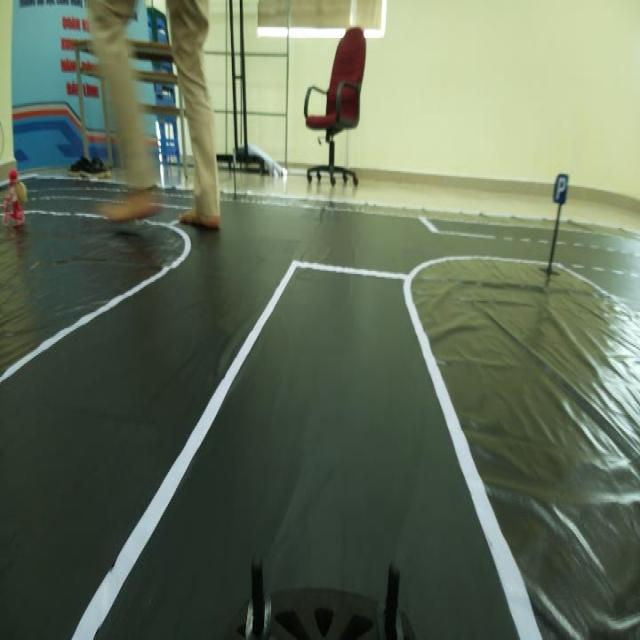parking: (548, 164, 570, 216)
